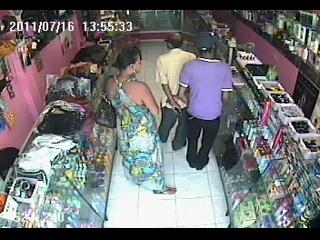Normal: (100, 46, 177, 195), (178, 32, 235, 170), (156, 32, 197, 152)
